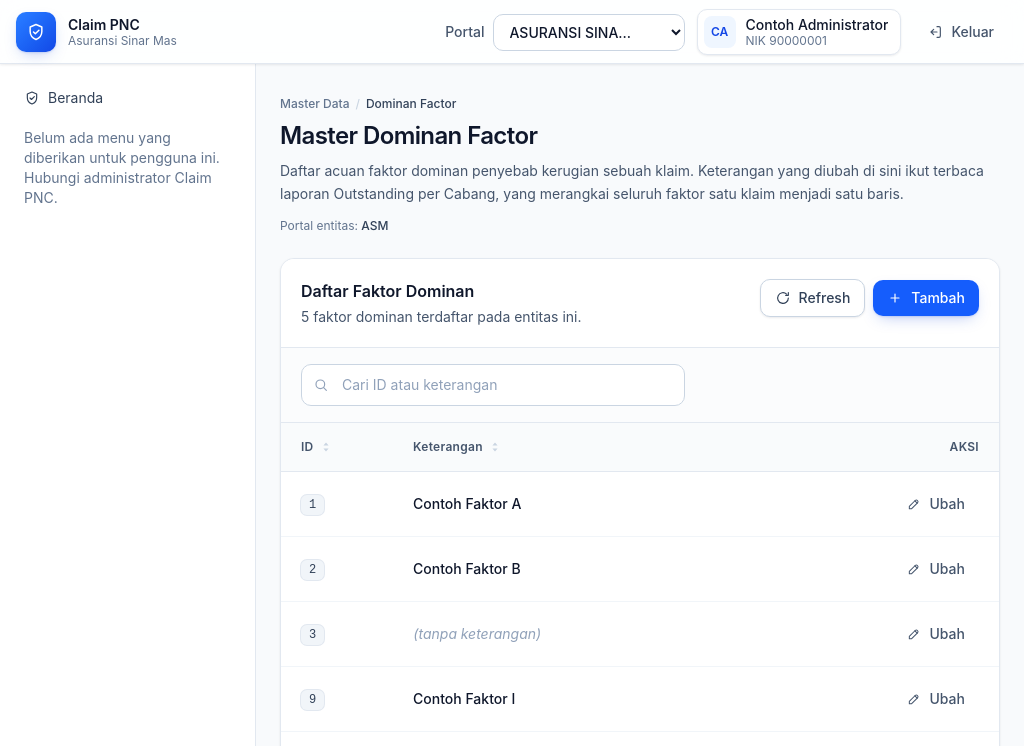
Scenario: daftar › menyaring baris saat pengguna mengetik di kotak cari
Check: the text "Contoh Faktor A" is shown, box [413,494,521,512]
Type "faktor j" into the search field at (493, 384), box [301,364,685,406]
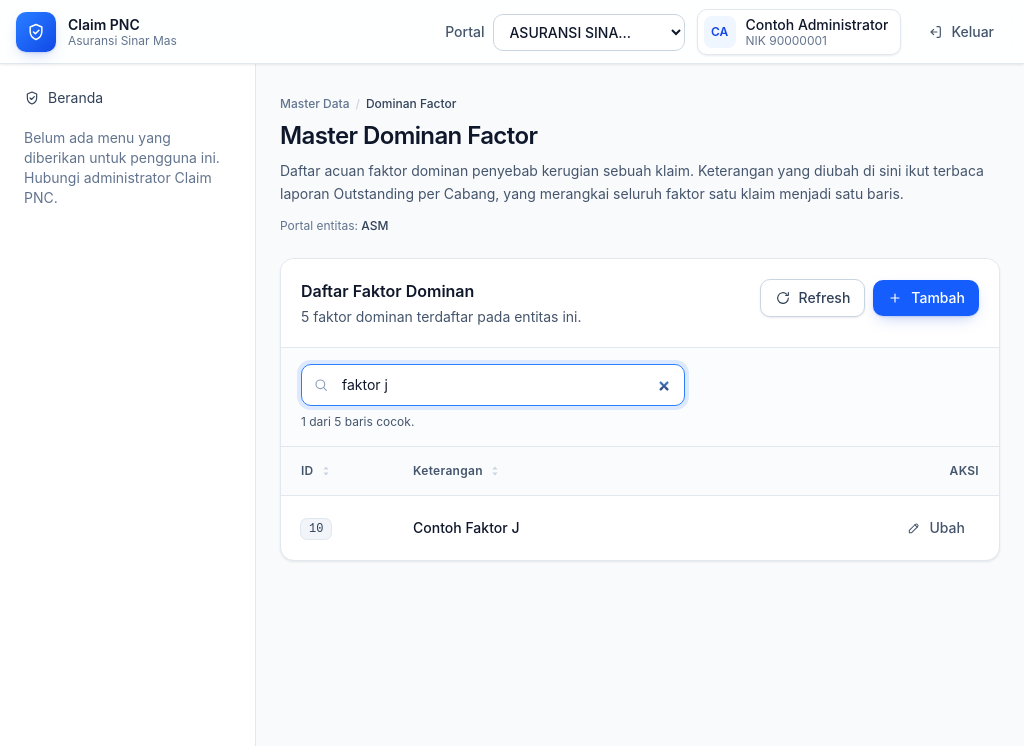
Check: the text "Contoh Faktor J" is shown, box [413,518,520,536]
Check: the text "Contoh Faktor A" is gone
